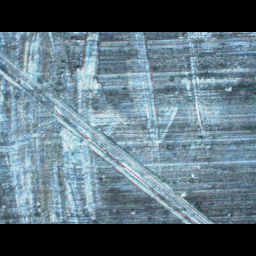d: (0, 32, 101, 224), (123, 33, 232, 164), (113, 152, 221, 224)
